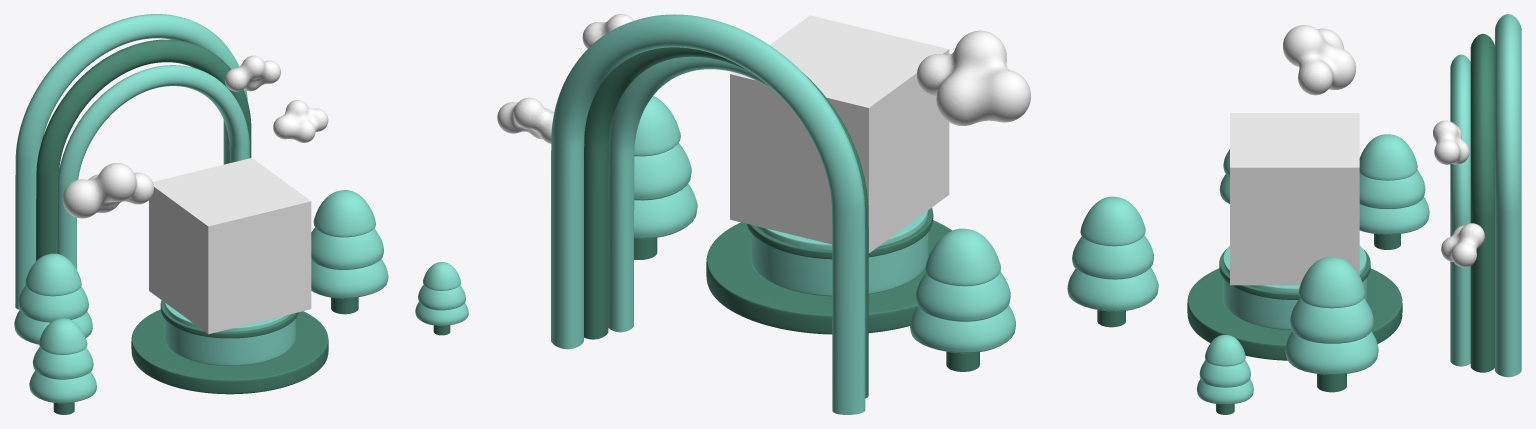
Rendered from podium_gate_turquoise.glb.
The picture shows the model from 3 angles, left to right: view 1: azimuth 30°, elevation 25°; view 2: azimuth 150°, elevation 25°; view 3: azimuth 270°, elevation 25°; orthographic projection. The views are drawn at different scales.
Visible parts, largest first — view 1: placeholder, Torus005, Torus006, Cylinder015, Torus004, Mball, Cylinder016, Cube007, Cube006, Cube008, Cube009, Cube010 (+9 smaller); view 2: placeholder, Torus005, Mball, Torus006, Cylinder015, Torus004, Cylinder016, Cube011, Cube010, Cube009, Cube020, Cube019 (+6 smaller); view 3: placeholder, Torus005, Torus006, Mball, Cylinder015, Torus004, Cube007, Cube008, Cylinder016, Cube006, Cube009, Cube010 (+7 smaller).
Part boxes in pixels (bbox=[...]): placeholder: bbox=[149, 158, 311, 334]; Torus005: bbox=[15, 14, 247, 309]; Torus006: bbox=[36, 39, 251, 260]; Cylinder015: bbox=[131, 309, 328, 394]; Torus004: bbox=[56, 65, 249, 269]; Mball: bbox=[62, 55, 328, 218]; Cylinder016: bbox=[164, 302, 295, 365]; Cube007: bbox=[311, 227, 383, 269]; Cube006: bbox=[313, 190, 375, 237]; Cube008: bbox=[311, 259, 388, 298]; Cube009: bbox=[25, 253, 81, 296]; Cube010: bbox=[18, 285, 88, 322]; placeholder: bbox=[730, 15, 949, 253]; Torus005: bbox=[551, 14, 865, 414]; Mball: bbox=[497, 14, 1030, 143]; Torus006: bbox=[584, 47, 868, 398]; Cylinder015: bbox=[706, 220, 951, 334]; Torus004: bbox=[608, 56, 774, 332]; Cylinder016: bbox=[750, 210, 928, 296]; Cube011: bbox=[910, 305, 1015, 353]; Cube010: bbox=[915, 271, 1010, 321]; Cube009: bbox=[925, 228, 1000, 286]; Cube020: bbox=[1067, 267, 1158, 311]; Cube019: bbox=[1072, 235, 1153, 279]; placeholder: bbox=[1230, 113, 1359, 285]; Torus005: bbox=[1495, 14, 1521, 377]; Torus006: bbox=[1470, 34, 1494, 372]; Mball: bbox=[1283, 25, 1484, 267]; Cylinder015: bbox=[1187, 268, 1402, 360]; Torus004: bbox=[1450, 54, 1470, 366]; Cube007: bbox=[1290, 298, 1373, 343]; Cube008: bbox=[1285, 331, 1378, 374]; Cylinder016: bbox=[1223, 245, 1366, 329]; Cube006: bbox=[1298, 257, 1365, 308]; Cube009: bbox=[1359, 134, 1417, 180]; Cube010: bbox=[1359, 169, 1425, 209].
Bounding box in the file's own units: 3 × 1.82 × 1.91.
